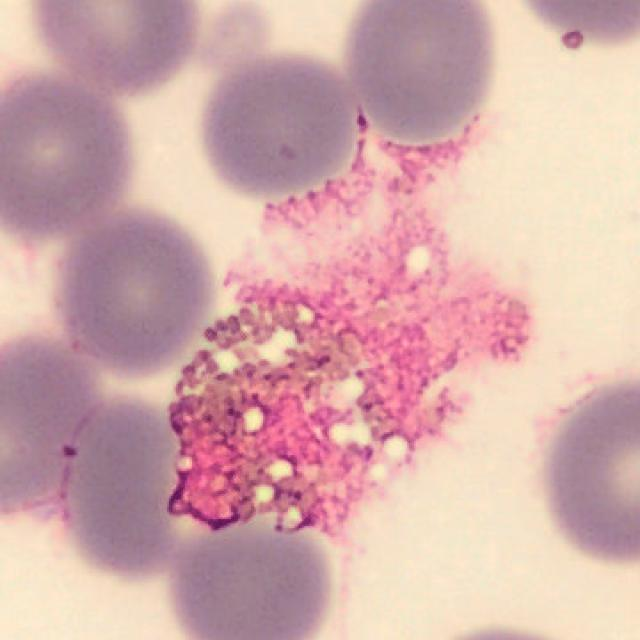Restos celulares: (167, 117, 524, 539)
